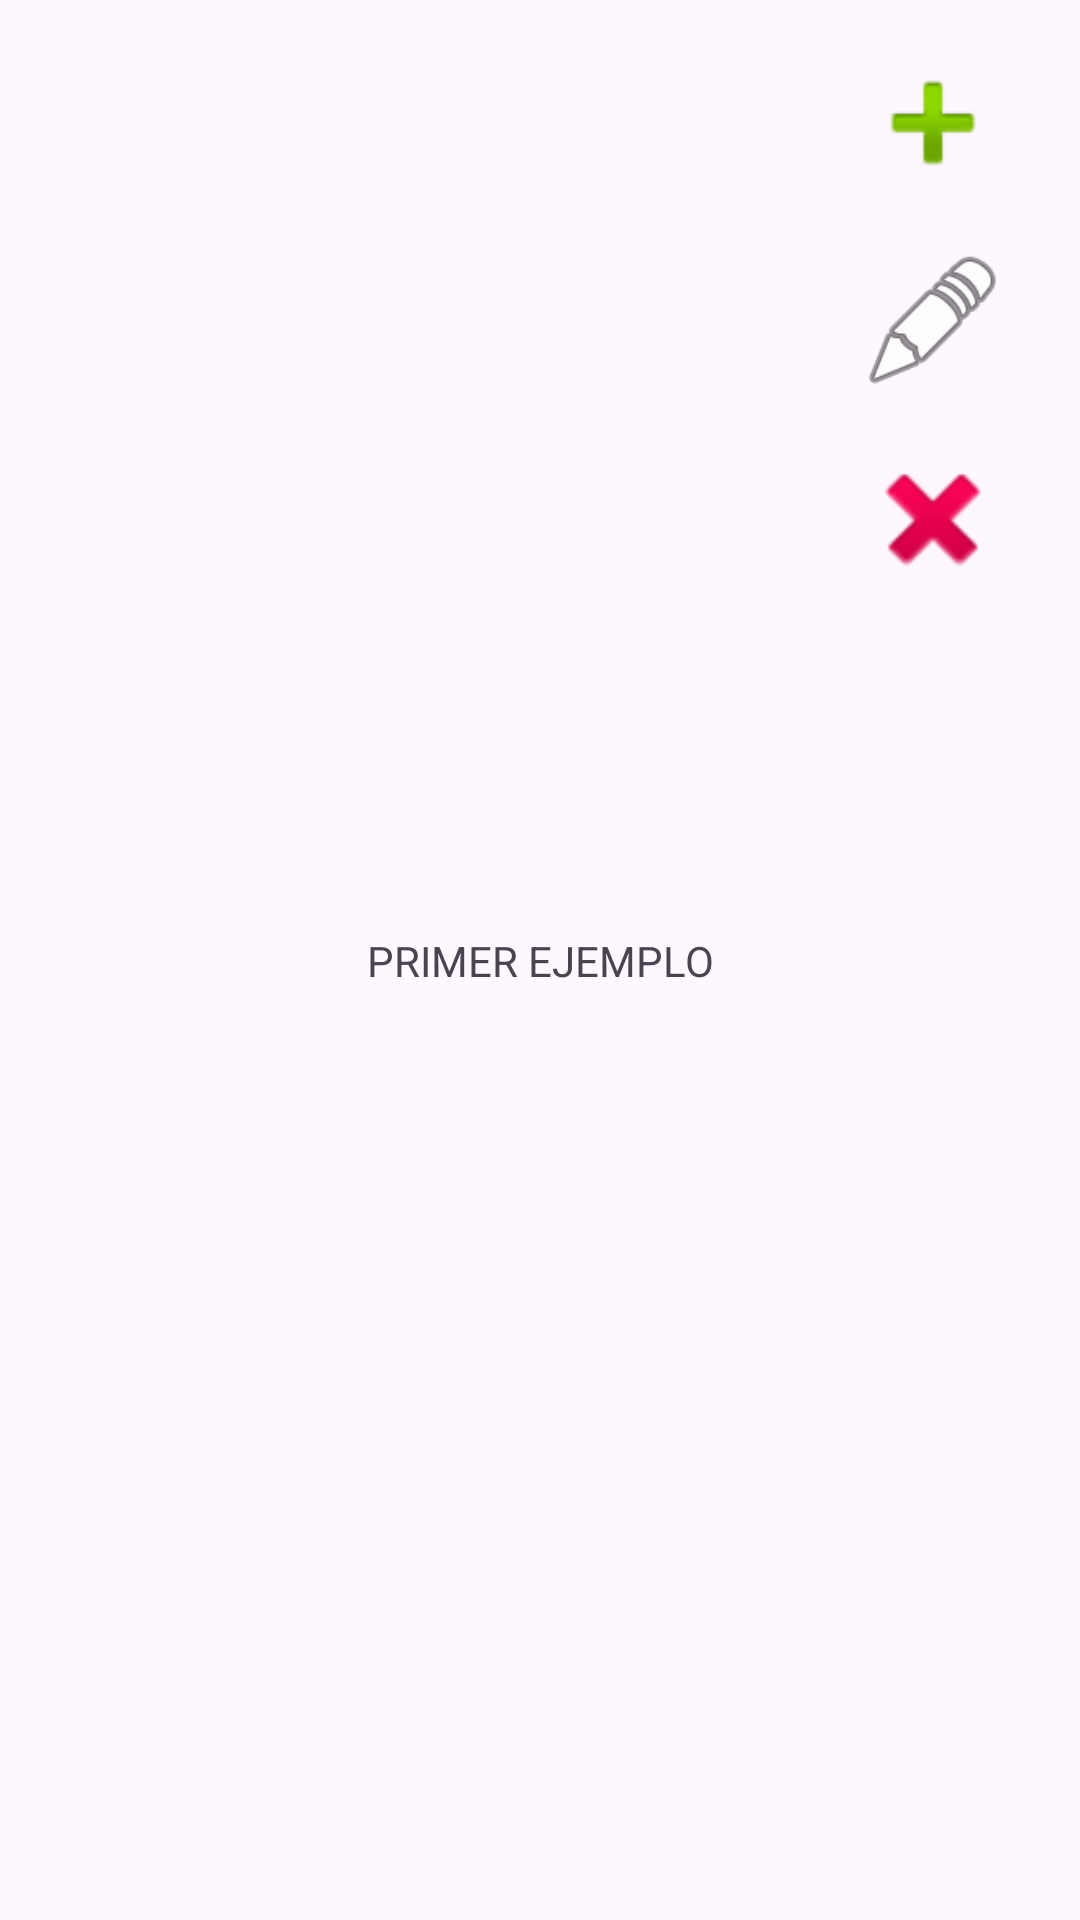

Screen size 1080*1920. Icon name, then its center in pixels as point (x, y):
add: point (933, 123)
delete: point (933, 520)
edit: point (932, 320)
